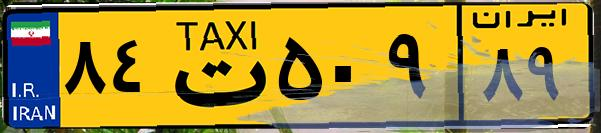0: (330, 28, 385, 110)
4: (110, 28, 158, 98)
5: (270, 28, 330, 110)
8: (57, 26, 110, 100), (475, 38, 525, 113)
9: (385, 28, 445, 110), (525, 38, 570, 115)
ت: (158, 12, 270, 120)
